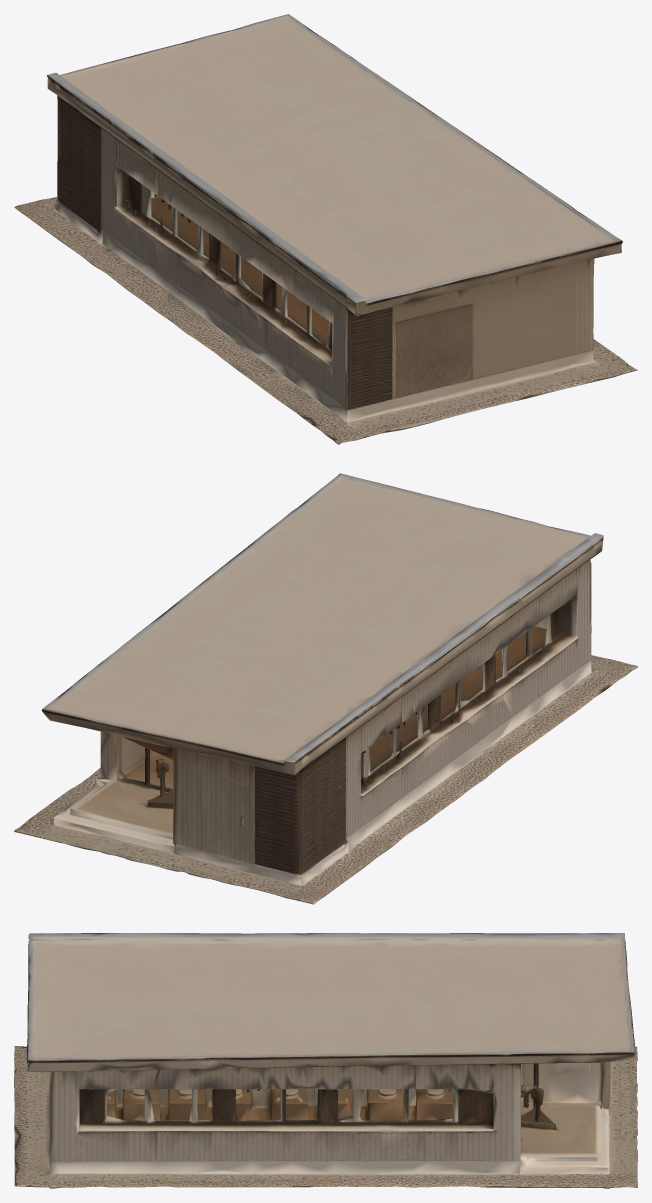
The model's file is admin-block.glb.
3 views of the same model, one above another, from view 1: azimuth 30°, elevation 25°; view 2: azimuth 150°, elevation 25°; view 3: azimuth 270°, elevation 25° (orthographic). The views are drawn at different scales.
Parts seen in each view (by area): view 1: tripo_node_12e6fe10-9338-4830-9104-56dba6a5dfd2; view 2: tripo_node_12e6fe10-9338-4830-9104-56dba6a5dfd2; view 3: tripo_node_12e6fe10-9338-4830-9104-56dba6a5dfd2.
Boxes of the visible parts, <box> form: tripo_node_12e6fe10-9338-4830-9104-56dba6a5dfd2: <box>14,14,637,444</box>; tripo_node_12e6fe10-9338-4830-9104-56dba6a5dfd2: <box>14,473,637,904</box>; tripo_node_12e6fe10-9338-4830-9104-56dba6a5dfd2: <box>14,933,637,1188</box>.
Bounding box in the file's own units: 0.5342 × 0.2276 × 1.
Materials: 1 (1 with a texture image).
